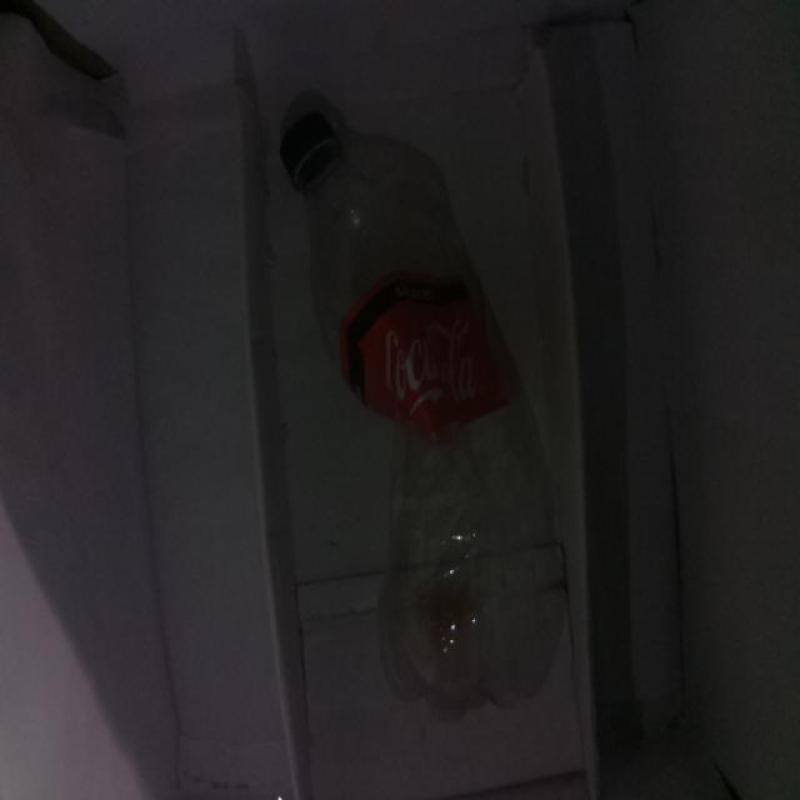botella: (280, 111, 566, 721)
